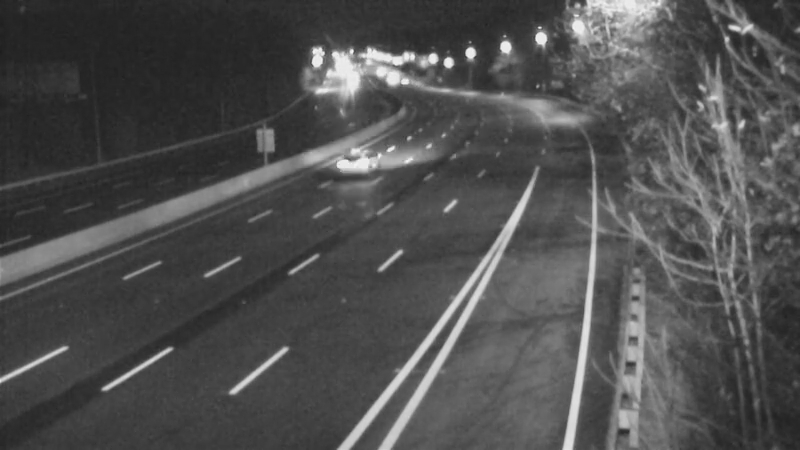vehicle: (313, 126, 393, 206)
